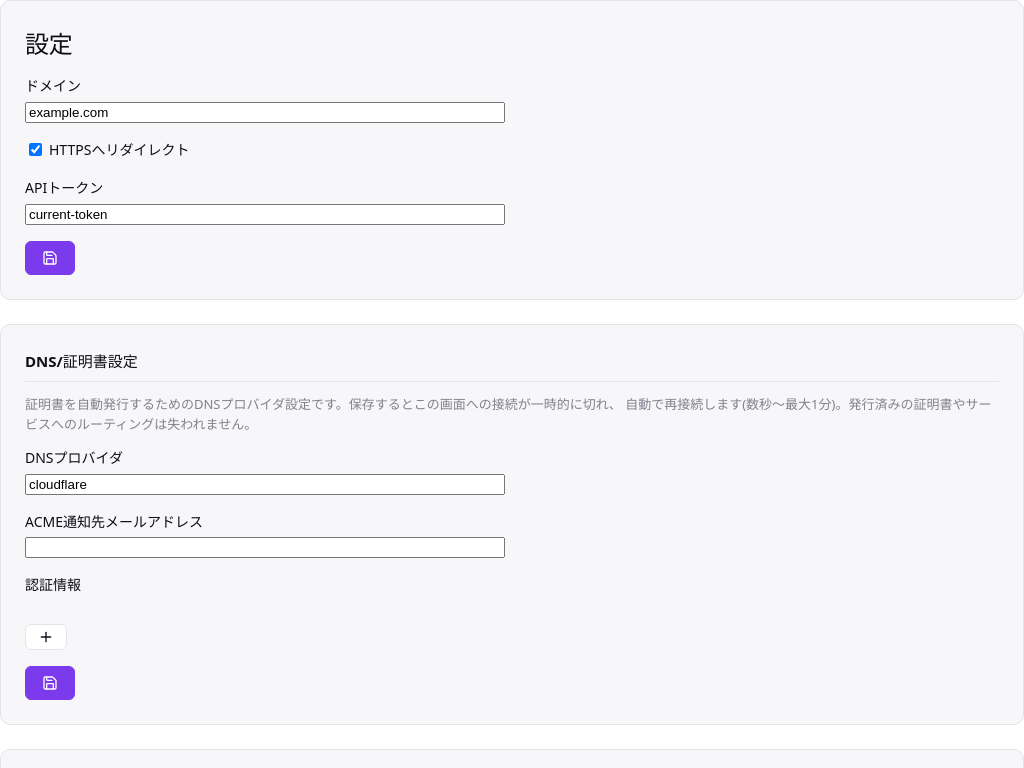
Test: SettingsPage › 保存ボタンでupdateSettingsを呼び、成功したら保存完了メッセージを表示する
Replace the text in the field labelled "APIトークン" with "another-token" at (265, 214), box [25,204,505,225]
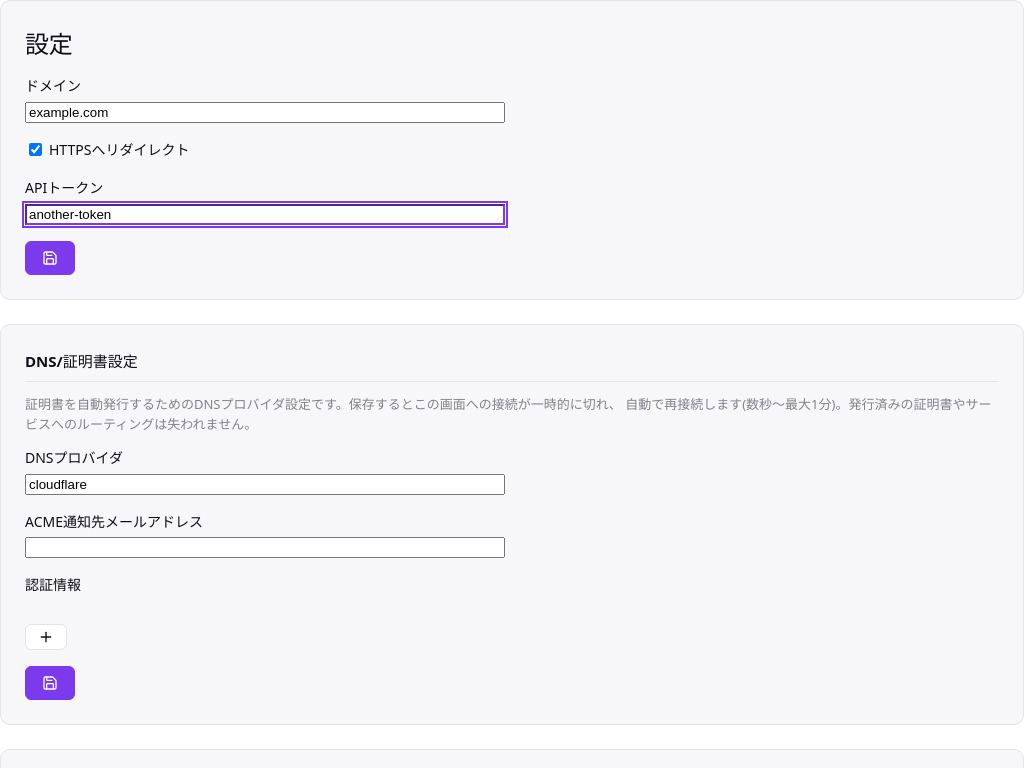
Click the button named "基本設定を保存".
click(50, 258)  # box [25,241,75,275]
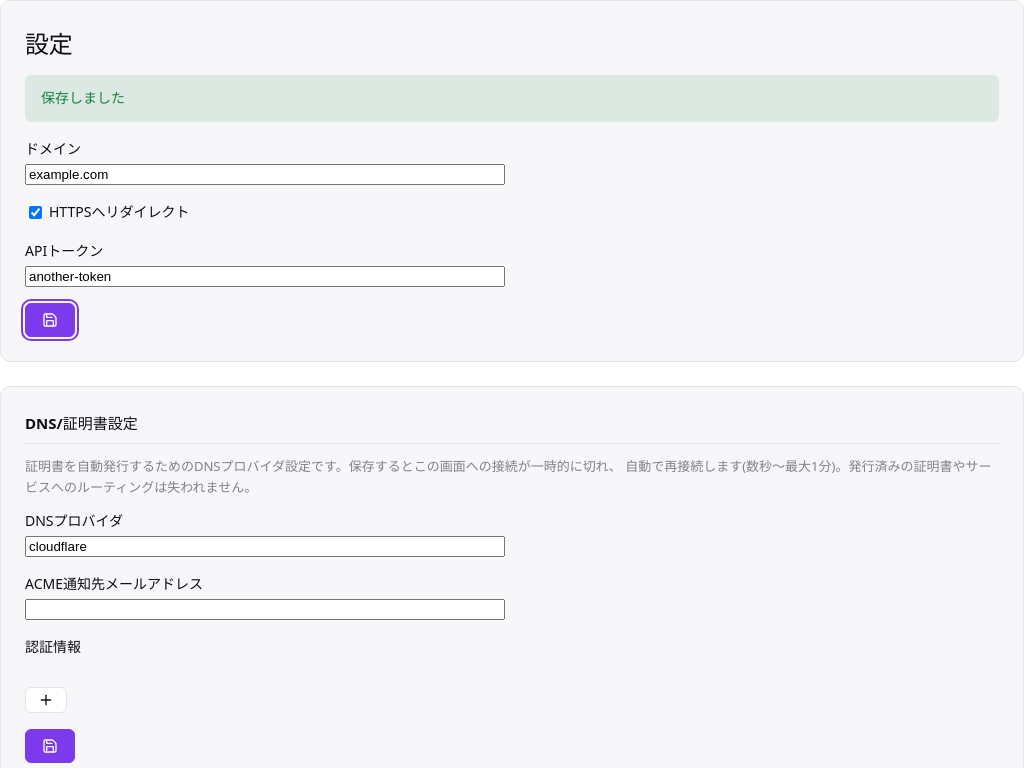
Now the text "保存しました" is shown, box [25,75,999,122]
